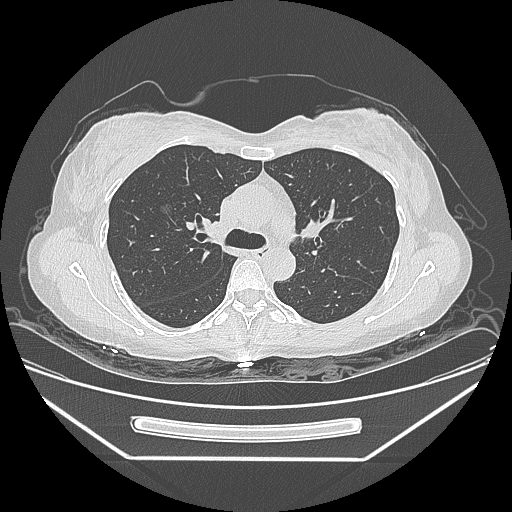nodule: (159, 204, 173, 213)
